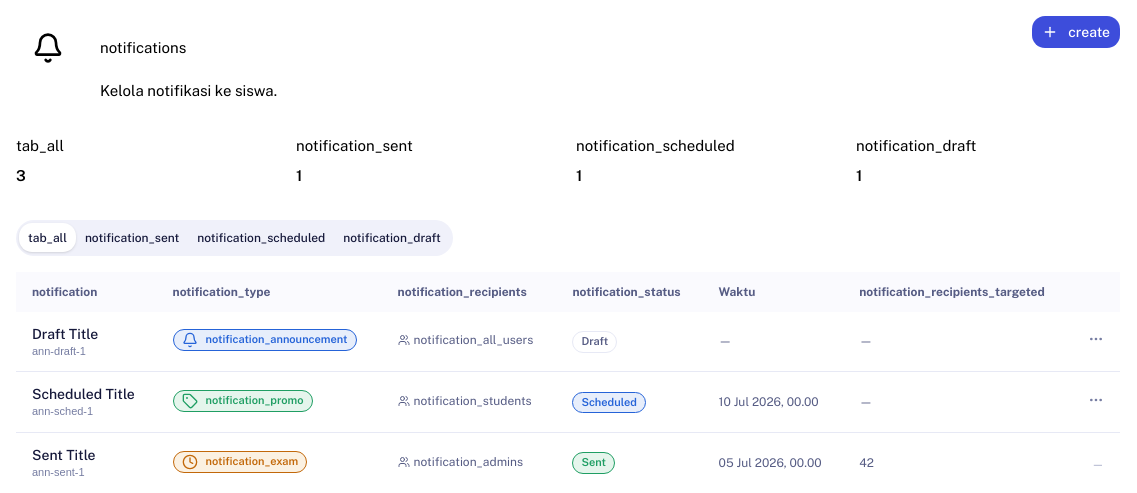
Test: AnnouncementTable › filters to sent announcements when sent tab is clicked
Radix TabsTrigger uses onMouseDown, not onClick
Press the mouse on the tab "notification_sent" at (132, 238), box [76,223,188,252]
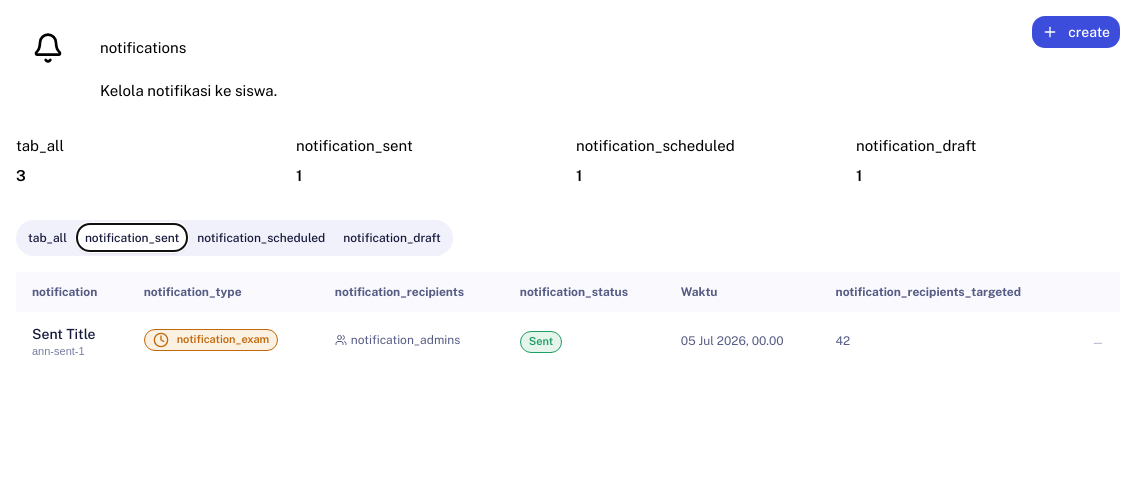
Expected: the text "Sent Title" is shown, [32,326,96,342]
Now the text "Draft Title" is gone
Now the text "Scheduled Title" is gone
